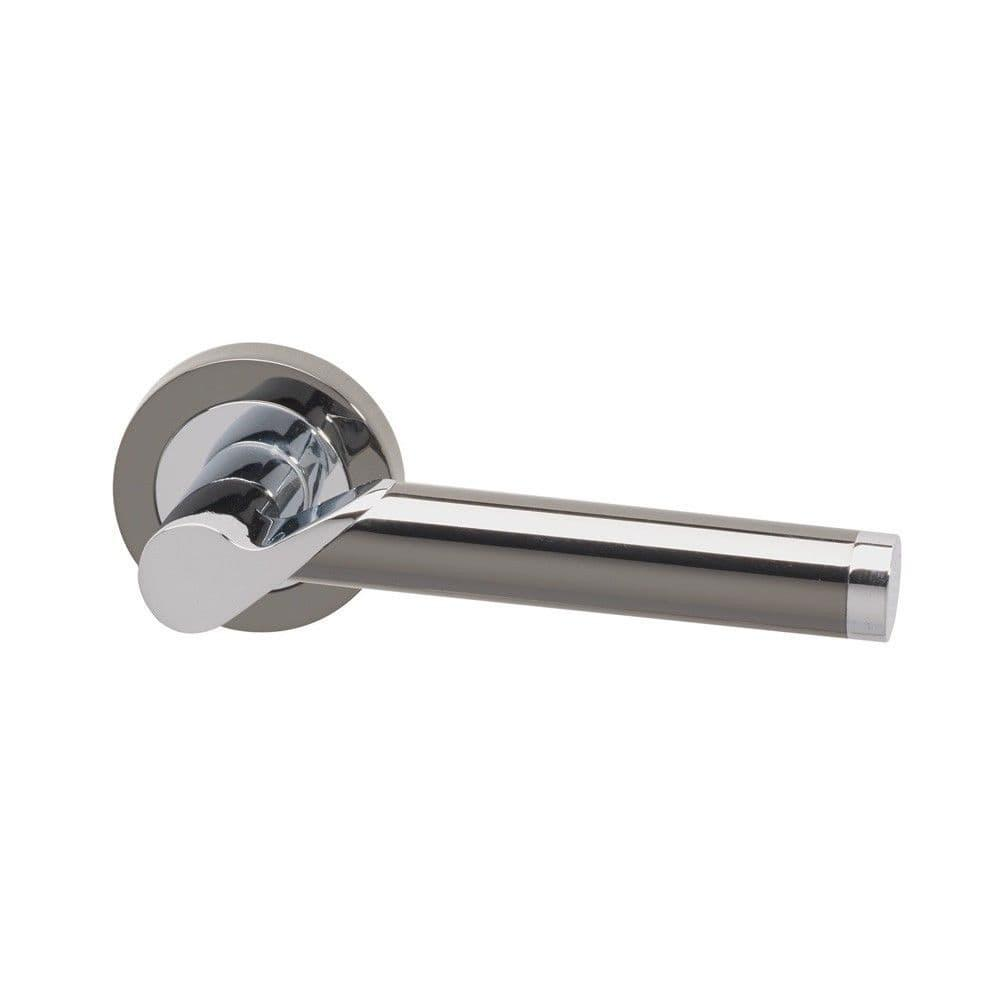doorhandle: (113, 346, 946, 761)
